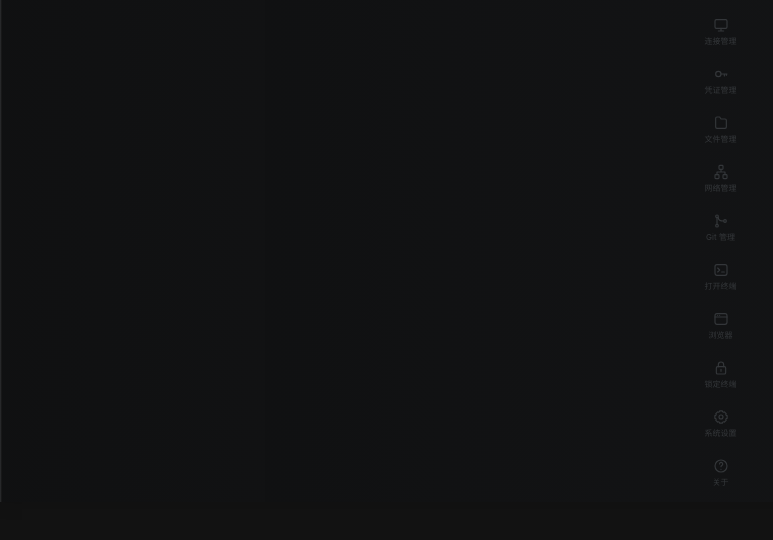
Test: shows the shared hover tooltip for unavailable demo tools
Hover over the button "关于" at [720, 472], box x1=694 y1=448 x2=748 y2=495
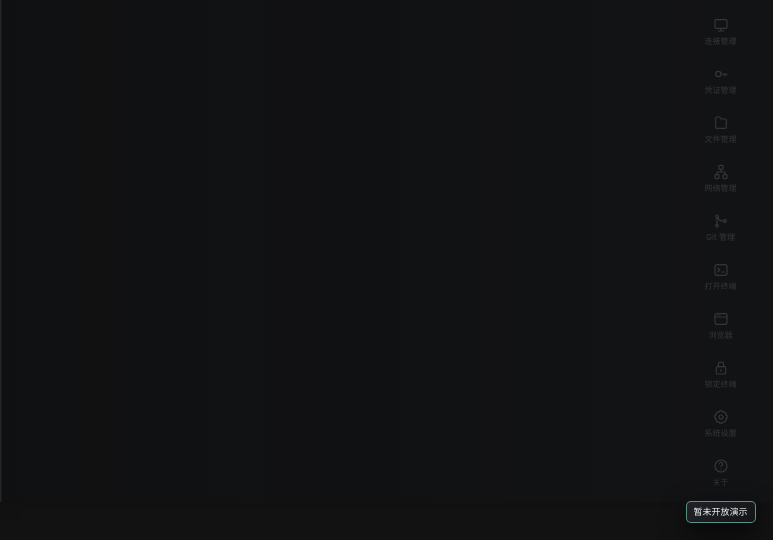
Result: the tooltip reads "暂未开放演示" at x1=694 y1=506 x2=748 y2=517
